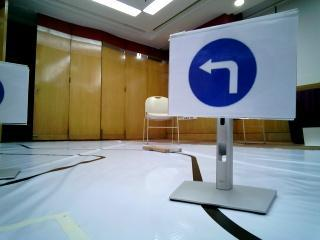left: (182, 31, 296, 121), (246, 168, 247, 168)
